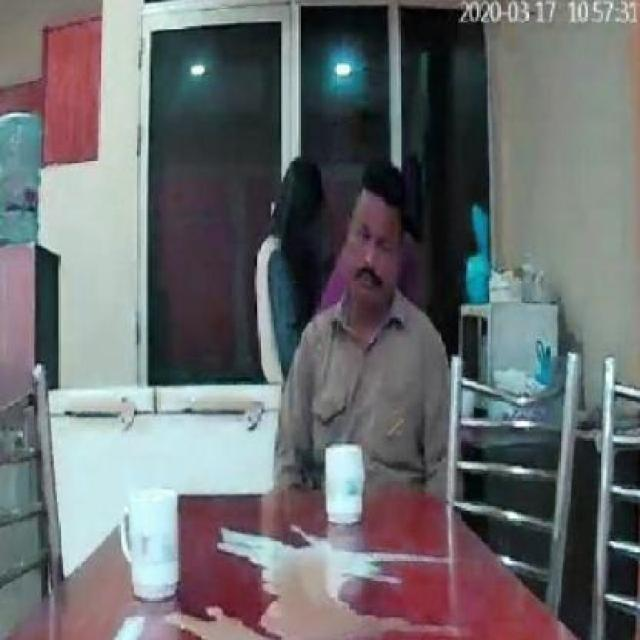spillage: (219, 529, 444, 640)
